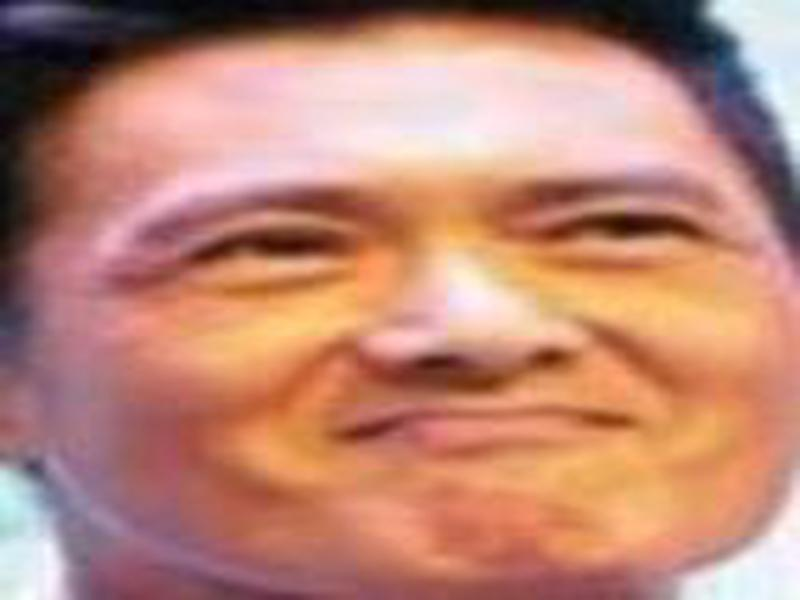without_mask: (31, 57, 783, 589)
